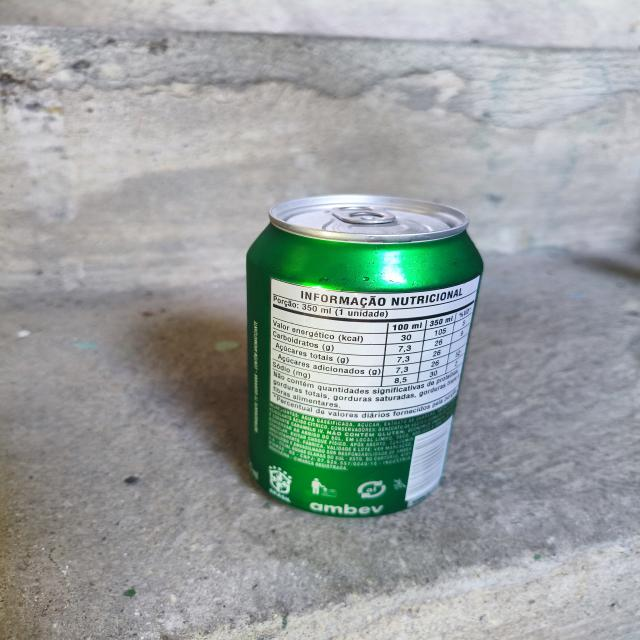Guarana: (220, 172, 477, 518)
